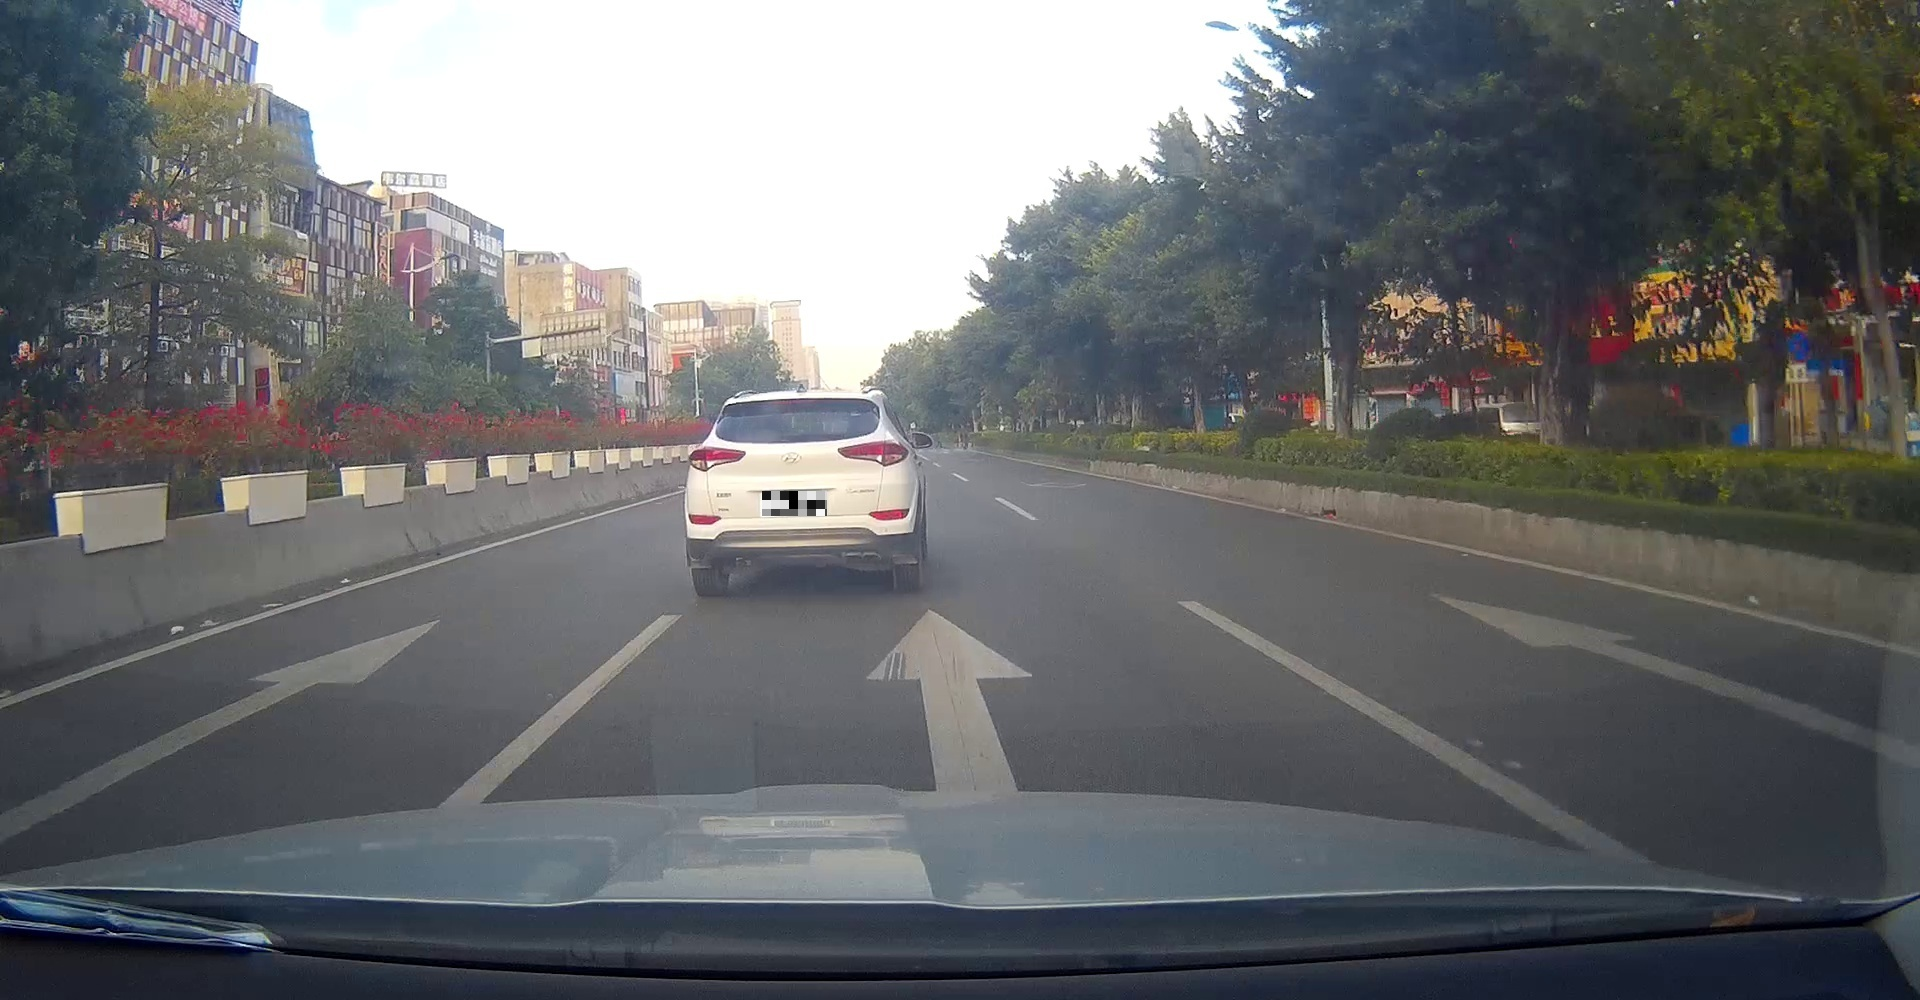L_light: (688, 445, 745, 472)
R_light: (836, 439, 909, 466)
T_light: (783, 398, 814, 402)
day-no: (682, 390, 918, 595)
plate_1: (762, 491, 827, 516)
